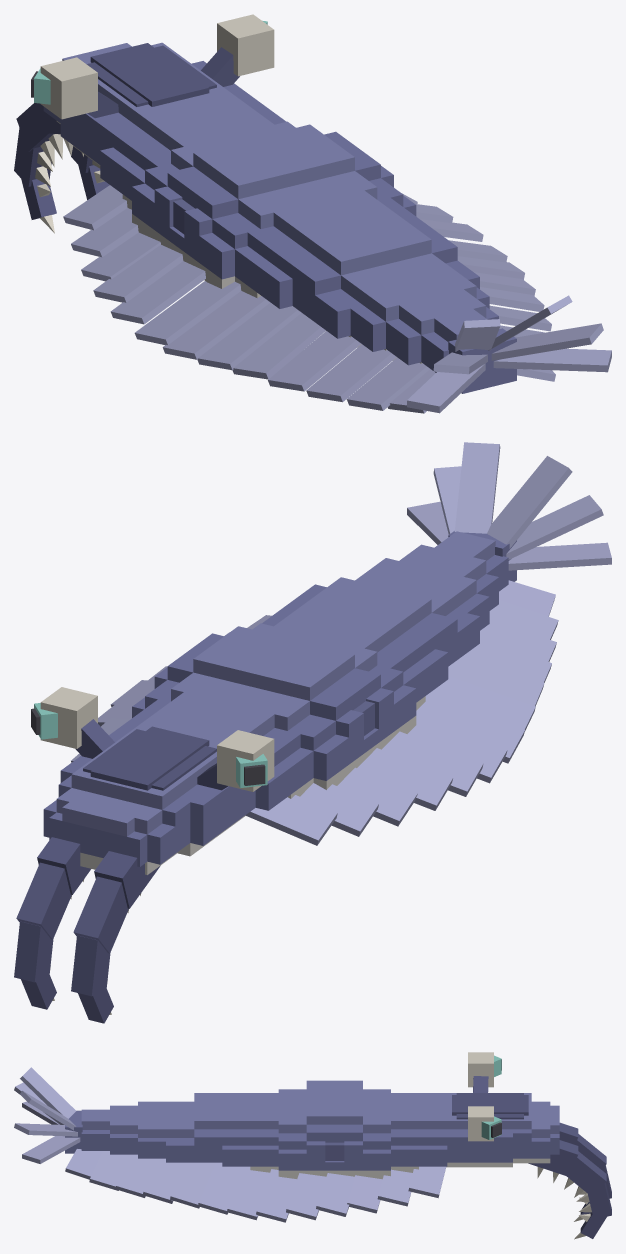
File: Anomalocaris.glb
The picture shows the model from 3 angles, top to bottom: view 1: azimuth 30°, elevation 25°; view 2: azimuth 150°, elevation 25°; view 3: azimuth 270°, elevation 25°; orthographic projection. The views are drawn at different scales.
Visible parts, largest first — view 1: B1, B2, Head, B3, Tail, FlapL4, FlapL3, FlapL5, FlapL6, FlapL2, FlapL1, FlapR5 (+8 smaller); view 2: B1, Head, B2, Tail, B3, FlapL4, FlapL3, FlapL2, FlapL1, FlapL6, FlapL5, ArmL2 (+9 smaller); view 3: B1, B2, Head, B3, Tail, FlapR6, FlapR4, FlapR3, FlapR5, FlapR2, FlapR1, ArmR2 (+6 smaller).
Boxes of the visible parts, x1=… form: B1: x1=100, y1=92, x2=393, y2=267; B2: x1=199, y1=171, x2=457, y2=321; Head: x1=31, y1=14, x2=274, y2=165; B3: x1=315, y1=253, x2=498, y2=372; Tail: x1=407, y1=295, x2=611, y2=413; FlapL4: x1=162, y1=291, x2=301, y2=370; FlapL3: x1=110, y1=261, x2=241, y2=344; FlapL5: x1=232, y1=313, x2=361, y2=391; FlapL6: x1=306, y1=344, x2=435, y2=413; FlapL2: x1=81, y1=232, x2=183, y2=302; FlapL1: x1=63, y1=185, x2=138, y2=257; FlapR5: x1=480, y1=287, x2=551, y2=331; B1: x1=113, y1=626, x2=393, y2=817; Head: x1=31, y1=687, x2=274, y2=874; B2: x1=252, y1=577, x2=457, y2=736; Tail: x1=407, y1=442, x2=611, y2=581; B3: x1=355, y1=531, x2=508, y2=659; FlapL4: x1=416, y1=676, x2=535, y2=763; FlapL3: x1=382, y1=714, x2=507, y2=796; FlapL2: x1=337, y1=748, x2=453, y2=826; FlapL1: x1=245, y1=783, x2=378, y2=845; FlapL6: x1=480, y1=580, x2=558, y2=661; FlapL5: x1=448, y1=639, x2=551, y2=706; ArmL2: x1=73, y1=876, x2=128, y2=953; B1: x1=306, y1=1080, x2=447, y2=1179; B2: x1=194, y1=1089, x2=306, y2=1178; Head: x1=447, y1=1052, x2=559, y2=1167; B3: x1=81, y1=1101, x2=194, y2=1162; Tail: x1=14, y1=1067, x2=82, y2=1163; FlapR6: x1=65, y1=1149, x2=158, y2=1197; FlapR4: x1=198, y1=1162, x2=269, y2=1220; FlapR3: x1=256, y1=1169, x2=326, y2=1222; FlapR5: x1=143, y1=1158, x2=215, y2=1208; FlapR2: x1=316, y1=1173, x2=382, y2=1216; FlapR1: x1=377, y1=1166, x2=446, y2=1206; ArmR2: x1=564, y1=1151, x2=606, y2=1197.
Bounding box in the file's own units: 13.77 × 8.69 × 31.91.
